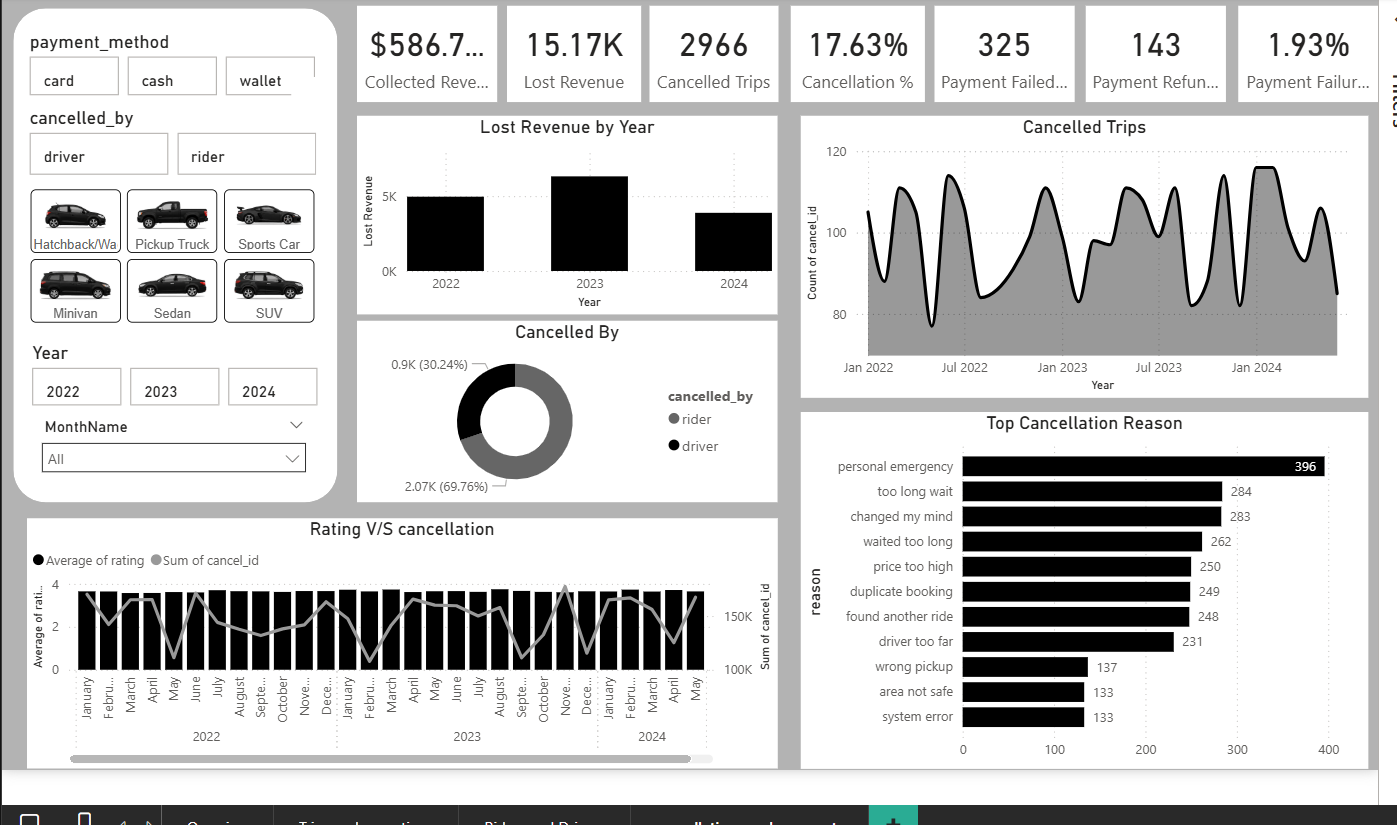

This screenshot's page, from the dashboard's own definition file:
{"tool":"powerbi","page":{"name":"cancellations and payments","canvas":[1280,720],"ordinal":4},"visuals":[{"type":"clusteredBarChart","fields":{"Category":["cancellations.reason"],"Y":["CountNonNull(cancellations.cancel_id)"]},"box":[602.1,376.9,656.8,313.5],"z":0},{"type":"areaChart","fields":{"Y":["CountNonNull(cancellations.cancel_id)"],"Category":["DateTable.Date.Variation.Date Hierarchy.Year","DateTable.Date.Variation.Date Hierarchy.Month"]},"box":[0,441.6,602.1,278.6],"z":1000},{"type":"barChart","fields":{"Category":["DateTable.Year"],"Y":["trips.Lost Revenue","trips.Collected Revenue"]},"box":[6.9,126.2,384.2,203.1],"z":2000},{"type":"card","fields":{"Values":["trips.Collected Revenue"]},"box":[198.6,0,284.3,100],"z":3000},{"type":"card","fields":{"Values":["trips.Lost revenue"]},"box":[482.9,0,211.4,107.1],"z":4000},{"type":"card","fields":{"Values":["trips.Cancellation %"]},"box":[0,0,210,107.1],"z":5000},{"type":"card","fields":{"Values":["trips.Cancelled Trips"]},"box":[710,0,160,107.1],"z":6000},{"type":"gauge","fields":{"Y":["trips.Payment Failure Rate"]},"box":[390.6,296.1,217.7,107],"z":7000},{"type":"advancedSlicerVisual","fields":{"Values":["trips.payment_method"]},"box":[1056.1,241.3,89.6,161.7],"z":8000},{"type":"advancedSlicerVisual","fields":{"Values":["DateTable.MonthName"]},"box":[1164.3,0,115.7,720],"z":9000},{"type":"card","fields":{"Values":["trips.Rider Cancellations"]},"box":[694.1,107,160.5,128.1],"z":10000},{"type":"card","fields":{"Values":["trips.Driver Cancellations"]},"box":[863.3,0,156.7,150.5],"z":11000},{"type":"advancedSlicerVisual","fields":{"Values":["cancellations.cancelled_by"]},"box":[717.8,279.9,223.9,84.6],"z":12000},{"type":"card","fields":{"Values":["trips.Payment Failed Count"]},"box":[1017.6,0,166.7,124.4],"z":13000},{"type":"advancedSlicerVisual","fields":{"Values":["drivers.Vehicle Type"]},"box":[0,544.4,347.2,175.6],"z":14000}]}

Visuals, with their boxes on the page's 1280x720 design canvas (x1, y1, x2, y2). These are canvas units, not pixel positions in the 1397x825 screenshot, which may show the page scaled, cropped or inside an application window:
clusteredBarChart - cancellations.reason x CountNonNull(cancellations.cancel_id): box=[602, 377, 1259, 690]
areaChart - CountNonNull(cancellations.cancel_id) x DateTable.Date.Variation.Date Hierarchy.Year: box=[0, 442, 602, 720]
barChart - DateTable.Year x trips.Lost Revenue: box=[7, 126, 391, 329]
card - trips.Collected Revenue: box=[199, 0, 483, 100]
card - trips.Lost revenue: box=[483, 0, 694, 107]
card - trips.Cancellation %: box=[0, 0, 210, 107]
card - trips.Cancelled Trips: box=[710, 0, 870, 107]
gauge - trips.Payment Failure Rate: box=[391, 296, 608, 403]
advancedSlicerVisual - trips.payment_method: box=[1056, 241, 1146, 403]
advancedSlicerVisual - DateTable.MonthName: box=[1164, 0, 1280, 720]
card - trips.Rider Cancellations: box=[694, 107, 855, 235]
card - trips.Driver Cancellations: box=[863, 0, 1020, 150]
advancedSlicerVisual - cancellations.cancelled_by: box=[718, 280, 942, 364]
card - trips.Payment Failed Count: box=[1018, 0, 1184, 124]
advancedSlicerVisual - drivers.Vehicle Type: box=[0, 544, 347, 720]
